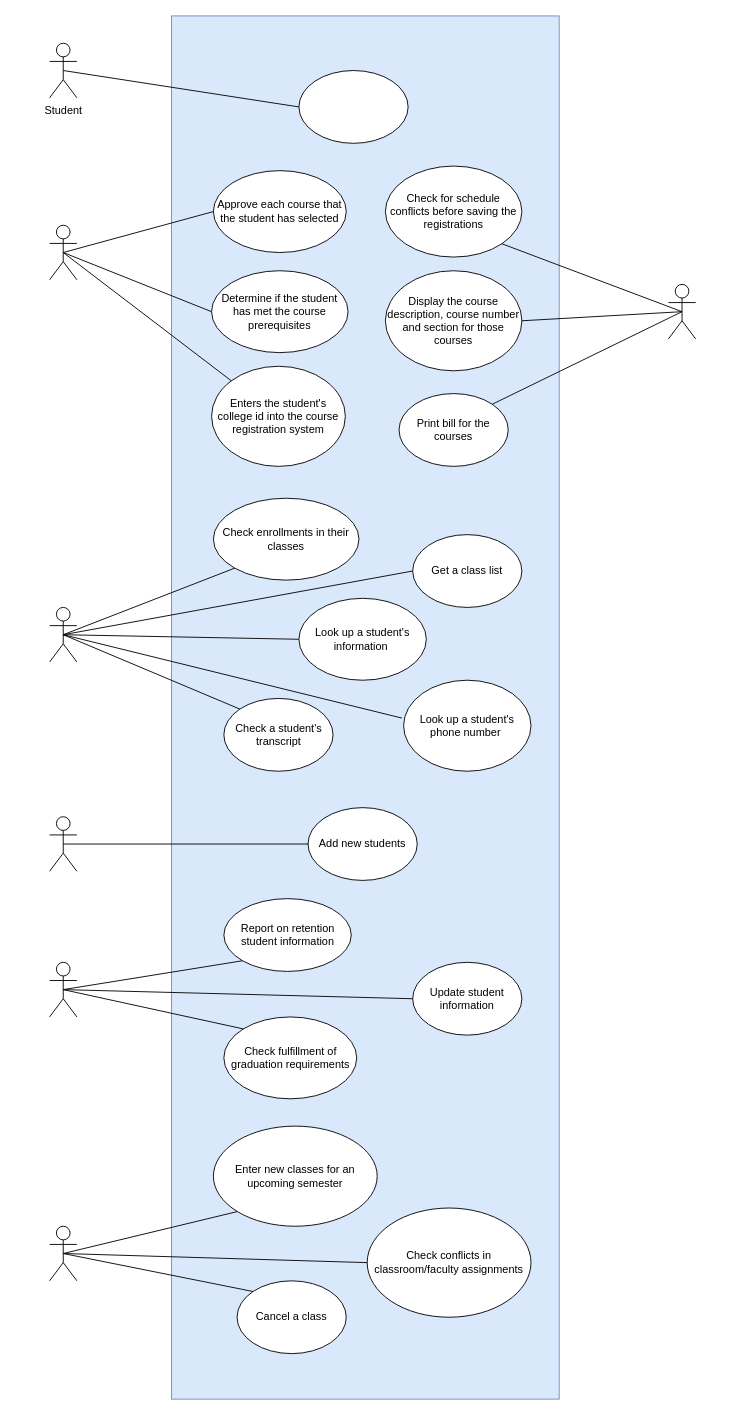
Image size: 745x1415. Some labels were removed from this diagram. Here are the shapes that lost their labels. From the top down, the box of each, then its label:
(298, 70, 408, 143): Register for classes
(49, 224, 77, 280): The advisor
(667, 283, 696, 339): Registration system
(49, 607, 77, 662): Faculty
(49, 816, 77, 871): Admissions
(49, 961, 77, 1017): Enrollment services
(49, 1225, 77, 1281): The registrar
